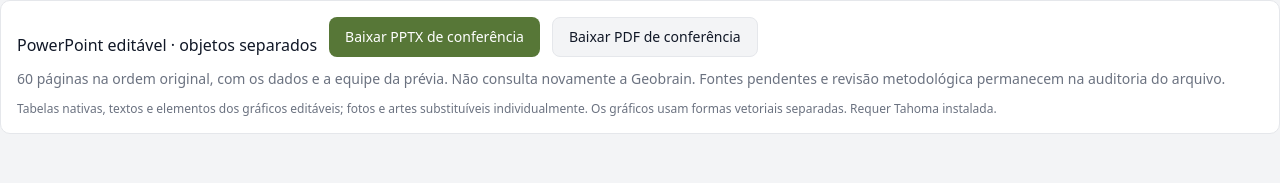
Test: Fortaleza exportação da mesma prévia › erro permite nova tentativa sem coletar dados
Later steps or results of the test are not shown.
Click the button "Baixar PPTX de conferência" at x=434, y=37, box [329,17,540,57]
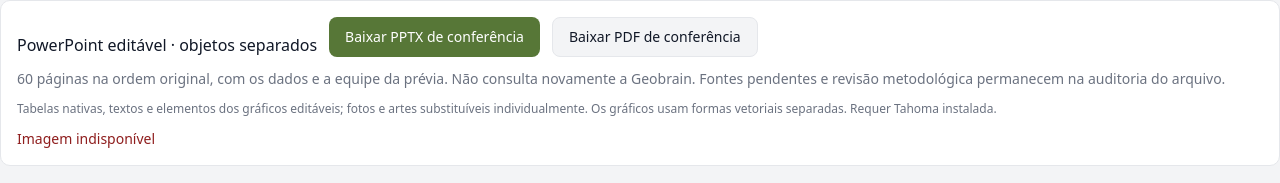
Expected: the message "Imagem indisponível" is shown, [17,129,155,148]
